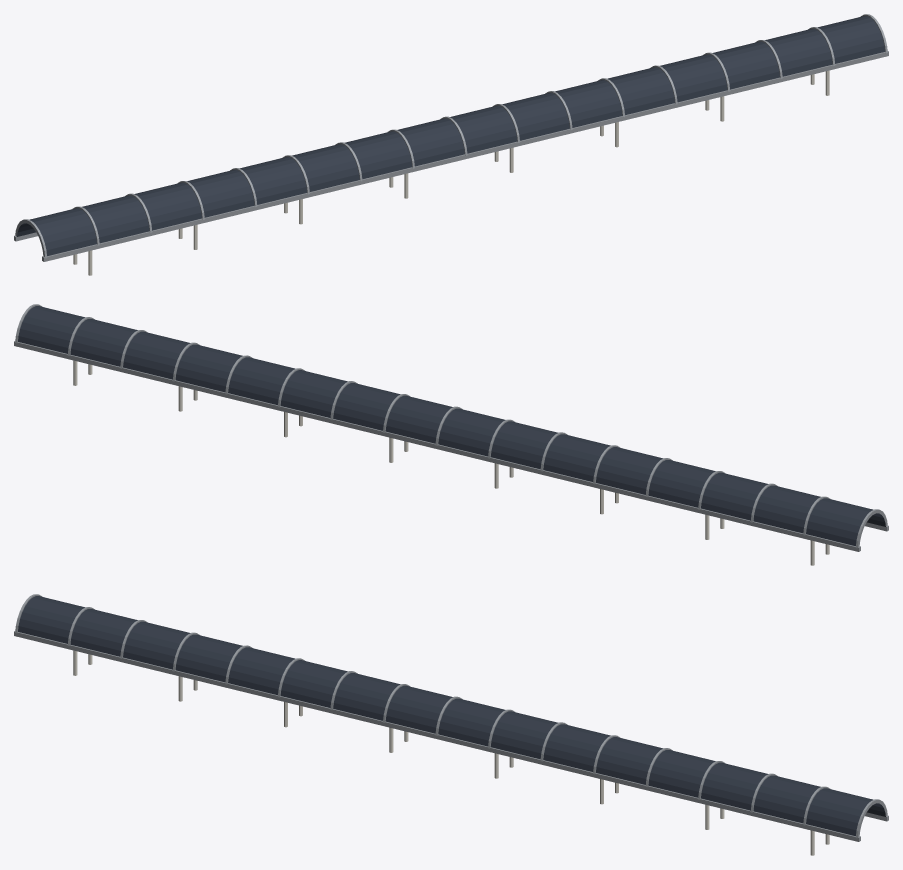
The model's file is fremont_canopy.glb.
The picture shows the model from 3 angles, top to bottom: view 1: azimuth 30°, elevation 25°; view 2: azimuth 150°, elevation 25°; view 3: azimuth 330°, elevation 25°; orthographic projection.
Parts seen in each view (by area): view 1: LedCanopyVault; view 2: LedCanopyVault; view 3: LedCanopyVault.
Part boxes in pixels (box(x1,y1,x2,y2)): LedCanopyVault: box(14, 14, 888, 275); LedCanopyVault: box(14, 304, 888, 565); LedCanopyVault: box(14, 594, 888, 855).
Bounding box in the file's own units: 423 × 29 × 26.2.
